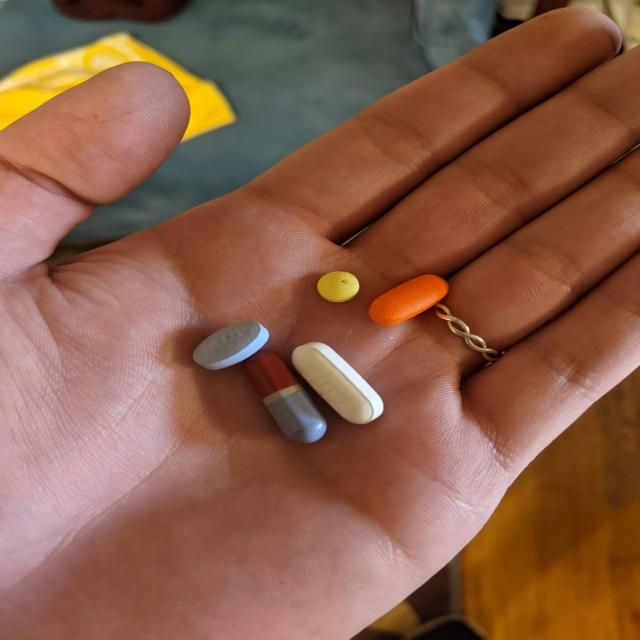non-organic waste: (241, 348, 329, 445), (290, 340, 386, 426), (366, 273, 451, 326), (191, 319, 271, 371), (315, 270, 362, 303)
